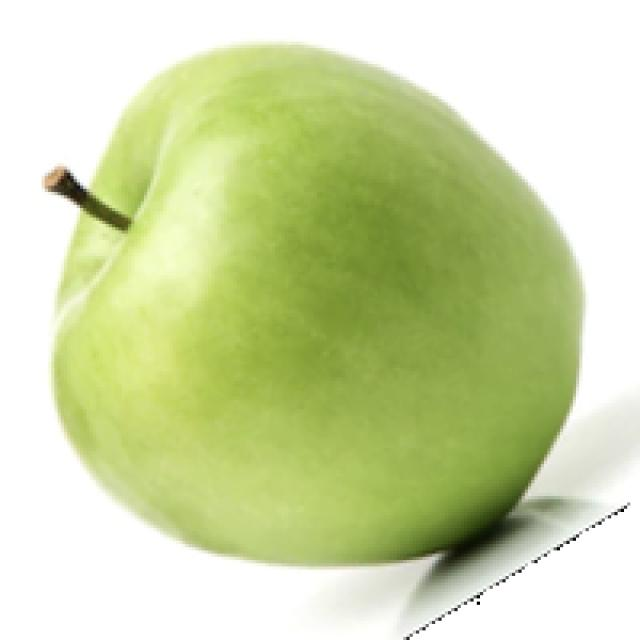apple: (38, 35, 637, 637)
